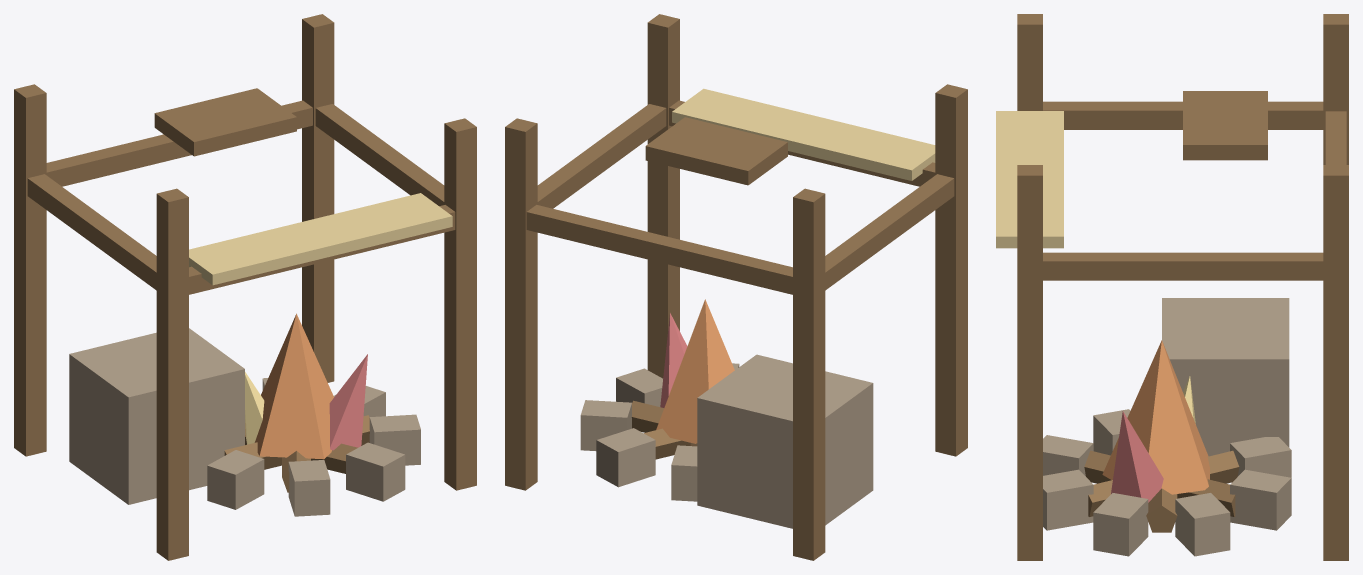
The model's file is volcanic-scaffold.glb.
The picture shows the model from 3 angles, left to right: view 1: azimuth 30°, elevation 25°; view 2: azimuth 150°, elevation 25°; view 3: azimuth 270°, elevation 25°; orthographic projection. The views are drawn at different scales.
Visible parts, largest first — view 1: volcanic-scaffold; view 2: volcanic-scaffold; view 3: volcanic-scaffold.
Part boxes in pixels (box(x1,y1,x2,y2)): volcanic-scaffold: box(14, 14, 476, 560); volcanic-scaffold: box(505, 14, 967, 560); volcanic-scaffold: box(996, 14, 1348, 560).
Bounding box in the file's own units: 0.9 × 1 × 0.83.
